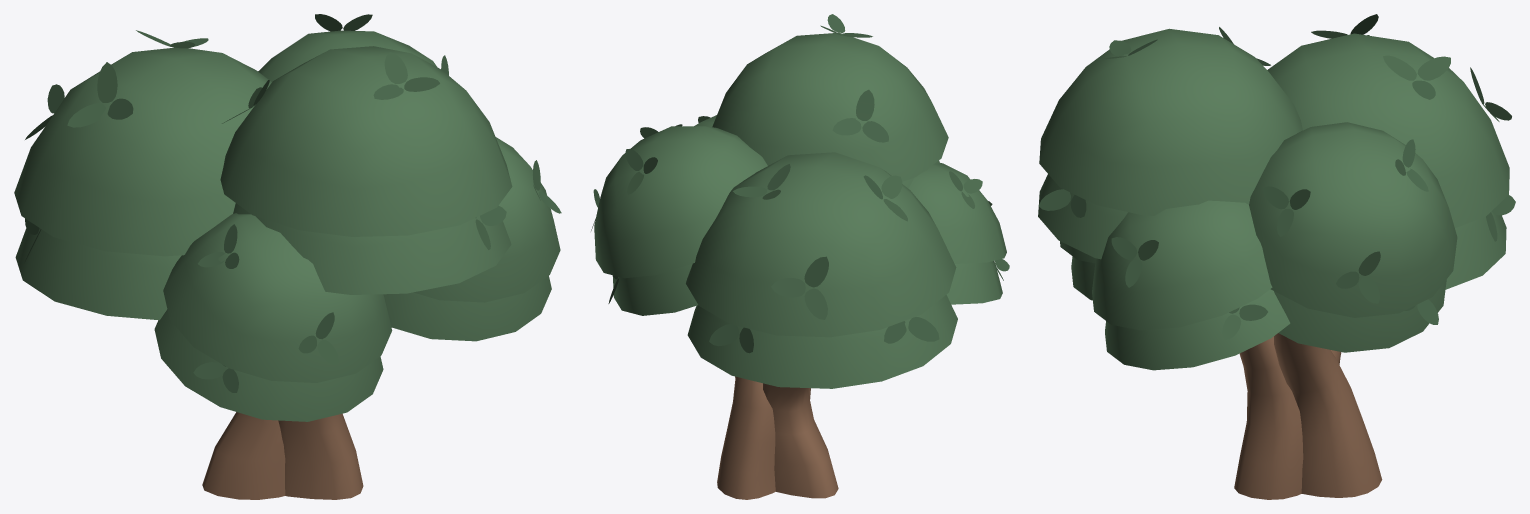
Rendered from Tree_C.fbx.
3 renders of one model, left to right at view 1: azimuth 30°, elevation 25°; view 2: azimuth 150°, elevation 25°; view 3: azimuth 270°, elevation 25°, orthographic. The views are drawn at different scales.
Parts seen in each view (by area): view 1: Tree_C; view 2: Tree_C; view 3: Tree_C.
Boxes of the visible parts, bbox=[...] form: Tree_C: bbox=[14, 14, 561, 499]; Tree_C: bbox=[591, 14, 1009, 499]; Tree_C: bbox=[1038, 14, 1515, 499].
Bounding box in the file's own units: 96.74 × 102 × 98.65.
